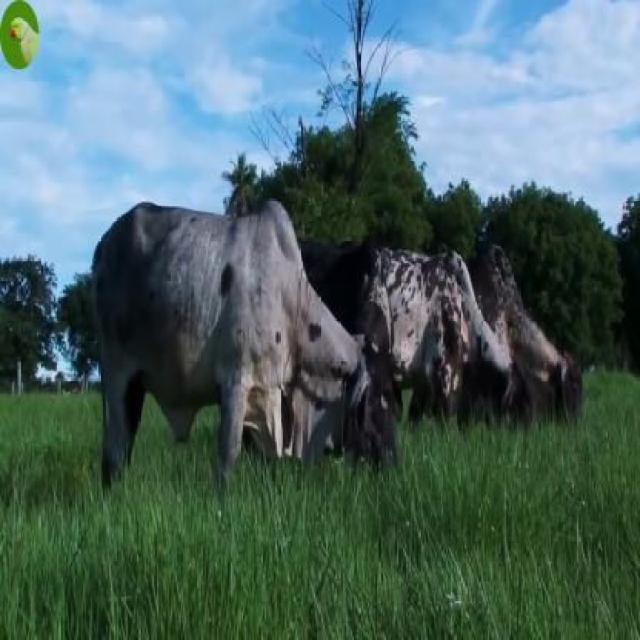Cow: (91, 200, 400, 494)
